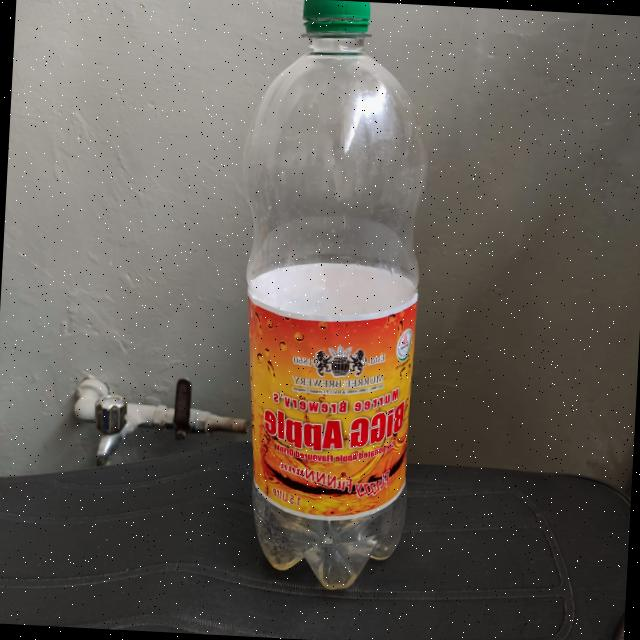bottle: (231, 0, 428, 596)
cap: (308, 0, 372, 46)
label: (231, 278, 416, 533)
